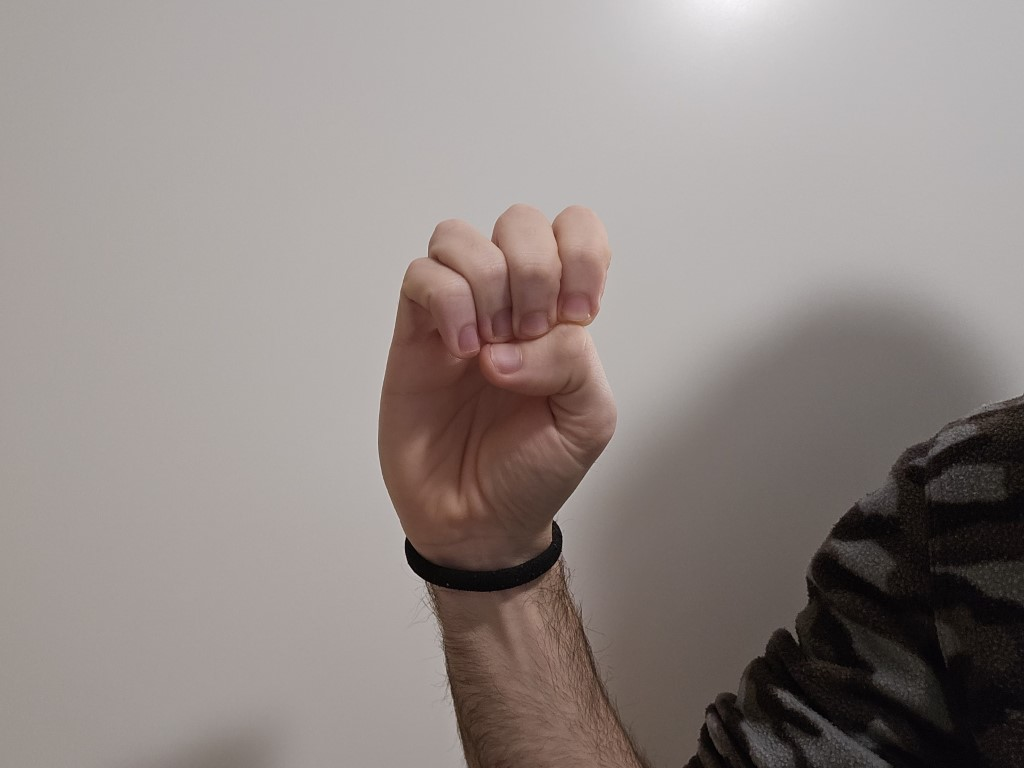e: (356, 177, 642, 567)
